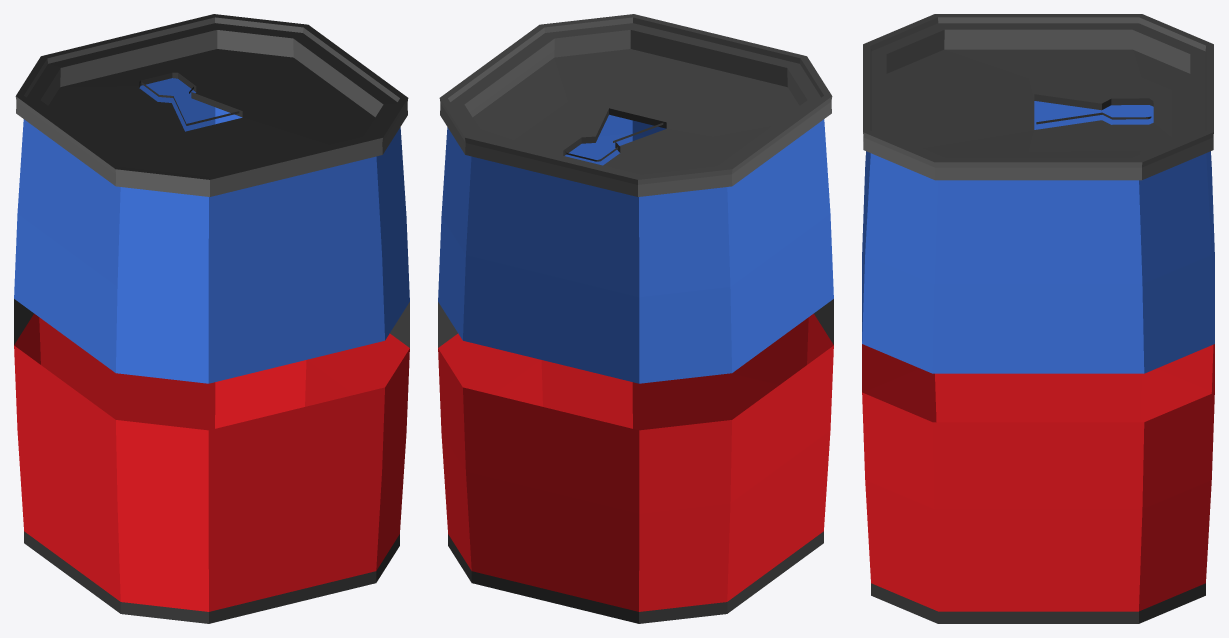
The model's file is Soda Can 1.fbx.
3 renders of one model, left to right at view 1: azimuth 30°, elevation 25°; view 2: azimuth 150°, elevation 25°; view 3: azimuth 270°, elevation 25°, orthographic. The views are drawn at different scales.
Parts seen in each view (by area): view 1: Node 0; view 2: Node 0; view 3: Node 0.
Part boxes in pixels (box(x1,y1,x2,y2)): Node 0: box(14, 14, 409, 623); Node 0: box(438, 14, 833, 623); Node 0: box(862, 14, 1214, 623).
Bounding box in the file's own units: 0.0942 × 0.137 × 0.0942.
